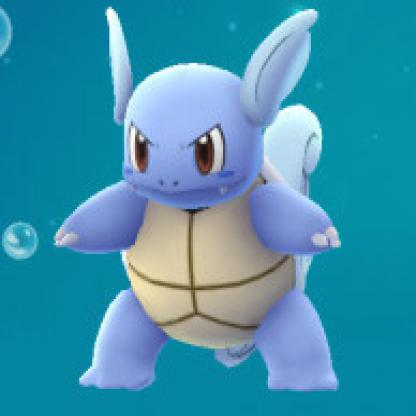Wartortle: (57, 1, 348, 405)
